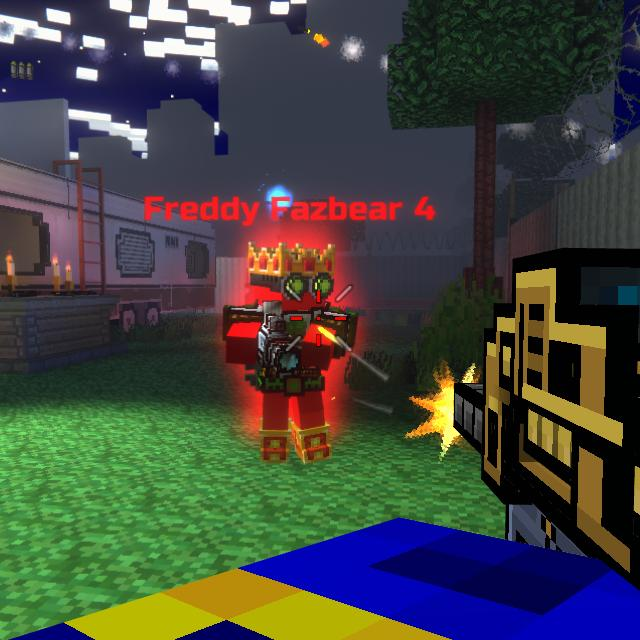Enemy: (223, 246, 357, 461)
